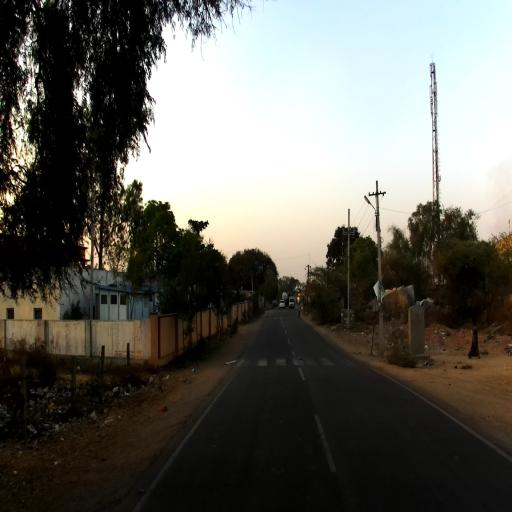street_light_0: (365, 195, 379, 230)
